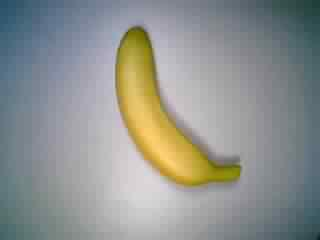banana: (109, 25, 243, 191)
